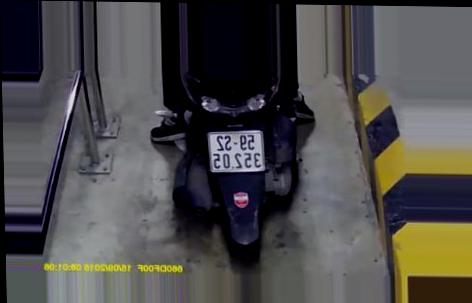License_Plate: (204, 126, 271, 178)
